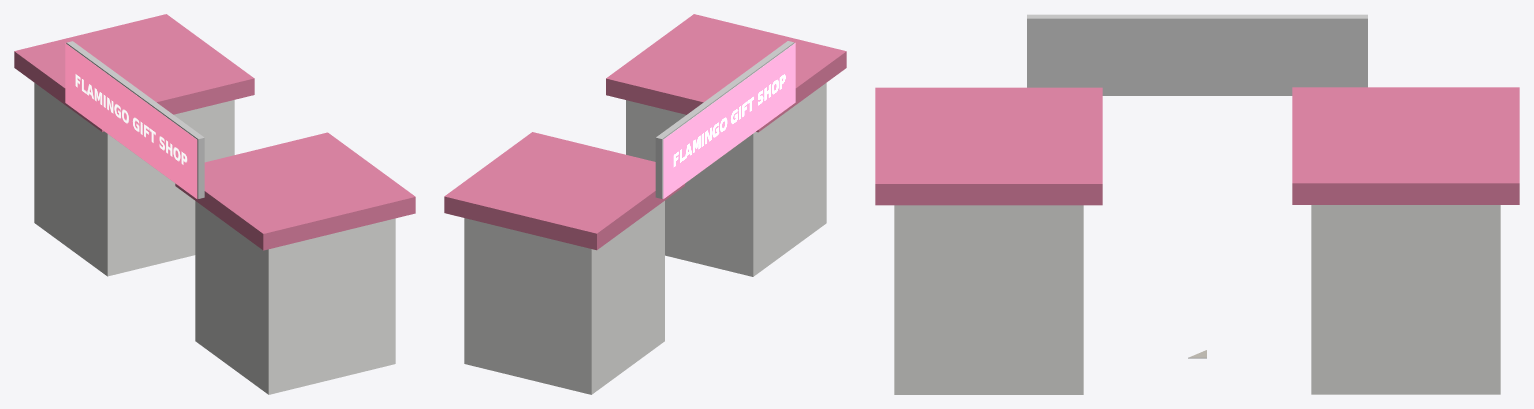
File: flamingo_kiosks.glb
The picture shows the model from 3 angles, left to right: view 1: azimuth 30°, elevation 25°; view 2: azimuth 150°, elevation 25°; view 3: azimuth 270°, elevation 25°; orthographic projection. The views are drawn at different scales.
Visible parts, largest first — view 1: flamingo_kiosks_lod0; view 2: flamingo_kiosks_lod0; view 3: flamingo_kiosks_lod0.
Boxes of the visible parts, x1,y1,x2,y2 form: flamingo_kiosks_lod0: [14, 14, 415, 394]; flamingo_kiosks_lod0: [444, 14, 846, 394]; flamingo_kiosks_lod0: [875, 14, 1519, 394].
Size of what is drawn, in the model's own units: 2.52 by 3.35 by 6.8.
6 materials, 1 textured.
